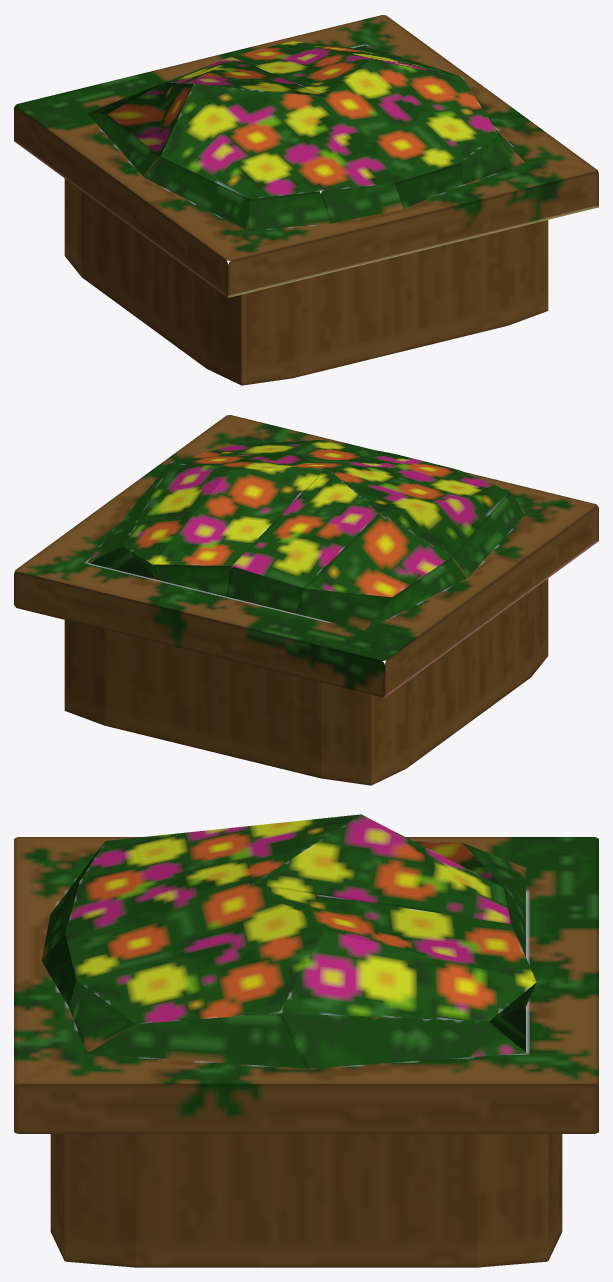
File: Planters.fbx
The picture shows the model from 3 angles, top to bottom: view 1: azimuth 30°, elevation 25°; view 2: azimuth 150°, elevation 25°; view 3: azimuth 270°, elevation 25°; orthographic projection. The views are drawn at different scales.
Parts seen in each view (by area): view 1: Planter; view 2: Planter; view 3: Planter.
Part boxes in pixels (x1=…): Planter: x1=14, y1=15, x2=598, y2=385; Planter: x1=14, y1=415, x2=598, y2=785; Planter: x1=14, y1=814, x2=598, y2=1267.
Bounding box in the file's own units: 100 × 53.44 × 100.
Materials: 1 (1 with a texture image).
